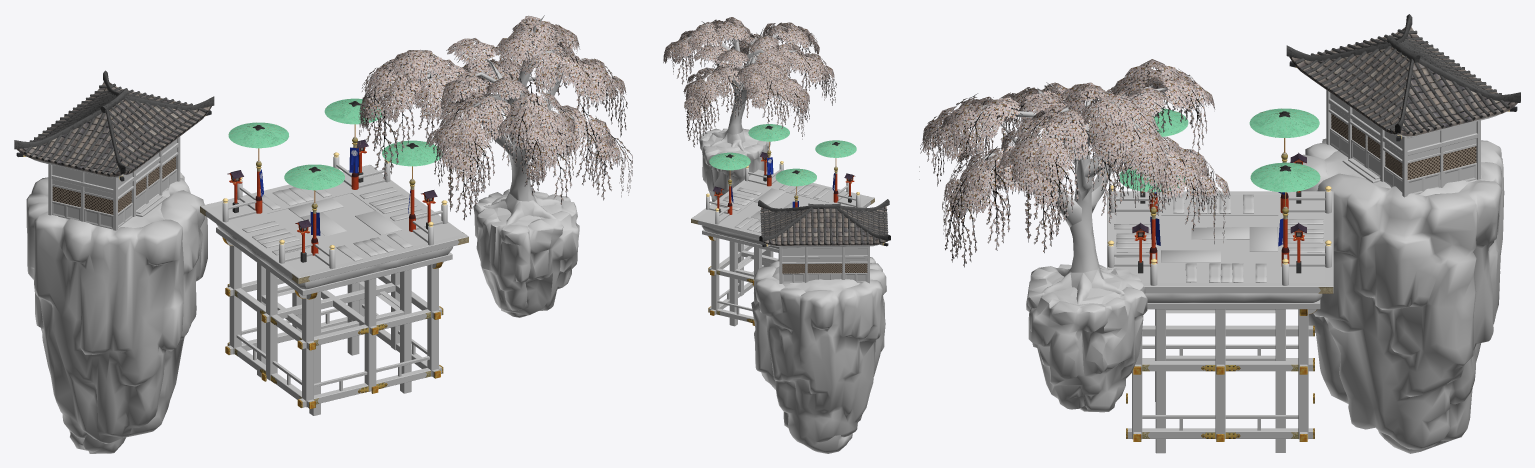
File: bg02_path_c_01out.fbx
3 renders of one model, left to right at view 1: azimuth 30°, elevation 25°; view 2: azimuth 150°, elevation 25°; view 3: azimuth 270°, elevation 25°, orthographic. The views are drawn at different scales.
Visible parts, largest first — view 1: set_p-geom-P20, set_p-geom-P4, set_p-geom-P11, set_p-geom-P9, set_p-geom-P0, set_p-geom-P12, set_p-geom-P18, set_p-geom-P17, set_p-geom-P6, set_p-geom-P1, set_p-geom-P10, set_p-geom-P16 (+6 smaller); view 2: set_p-geom-P20, set_p-geom-P11, set_p-geom-P4, set_p-geom-P18, set_p-geom-P17, set_p-geom-P12, set_p-geom-P6, set_p-geom-P0, set_p-geom-P9, set_p-geom-P10, set_p-geom-P16, set_p-geom-P13 (+6 smaller); view 3: set_p-geom-P20, set_p-geom-P11, set_p-geom-P4, set_p-geom-P9, set_p-geom-P0, set_p-geom-P18, set_p-geom-P12, set_p-geom-P17, set_p-geom-P1, set_p-geom-P10, set_p-geom-P6, set_p-geom-P16 (+6 smaller).
Boxes of the visible parts, x1,y1,x2,y2 form: set_p-geom-P20: [26, 172, 207, 453]; set_p-geom-P4: [200, 156, 468, 415]; set_p-geom-P11: [360, 15, 626, 184]; set_p-geom-P9: [473, 189, 579, 317]; set_p-geom-P0: [211, 169, 457, 273]; set_p-geom-P12: [358, 39, 632, 220]; set_p-geom-P18: [14, 70, 214, 175]; set_p-geom-P17: [17, 82, 211, 176]; set_p-geom-P6: [228, 98, 442, 202]; set_p-geom-P1: [267, 193, 401, 250]; set_p-geom-P10: [364, 15, 590, 225]; set_p-geom-P16: [25, 136, 180, 230]; set_p-geom-P20: [751, 257, 886, 453]; set_p-geom-P11: [663, 17, 834, 120]; set_p-geom-P4: [691, 164, 874, 326]; set_p-geom-P18: [758, 199, 890, 245]; set_p-geom-P17: [761, 206, 887, 245]; set_p-geom-P12: [672, 18, 836, 147]; set_p-geom-P6: [709, 124, 856, 194]; set_p-geom-P0: [699, 172, 866, 233]; set_p-geom-P9: [699, 128, 770, 201]; set_p-geom-P10: [674, 21, 797, 151]; set_p-geom-P16: [768, 243, 882, 283]; set_p-geom-P13: [782, 248, 867, 281]; set_p-geom-P20: [1289, 138, 1504, 453]; set_p-geom-P11: [922, 59, 1229, 219]; set_p-geom-P4: [1107, 190, 1333, 453]; set_p-geom-P9: [1026, 264, 1147, 412]; set_p-geom-P0: [1114, 194, 1324, 282]; set_p-geom-P18: [1286, 14, 1520, 134]; set_p-geom-P12: [919, 69, 1226, 267]; set_p-geom-P17: [1289, 26, 1517, 136]; set_p-geom-P1: [1161, 215, 1278, 262]; set_p-geom-P10: [959, 85, 1191, 304]; set_p-geom-P6: [1119, 108, 1320, 206]; set_p-geom-P16: [1310, 78, 1498, 197].
Bounding box in the file's own units: 41.1 × 39.15 × 40.7.
